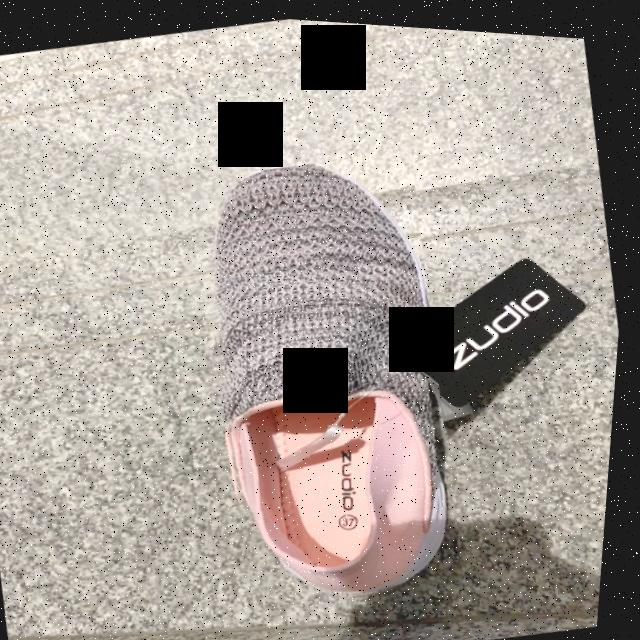shoe: (218, 161, 456, 591)
